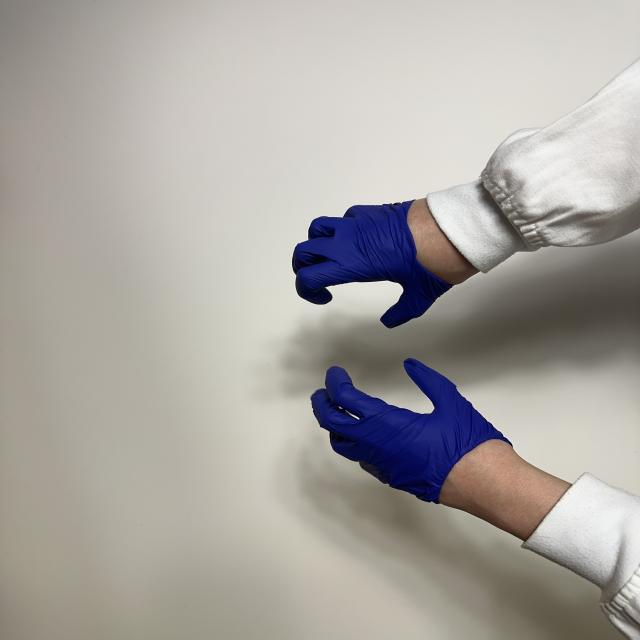glove_not_fitted: (309, 358, 580, 543), (289, 195, 487, 330)
